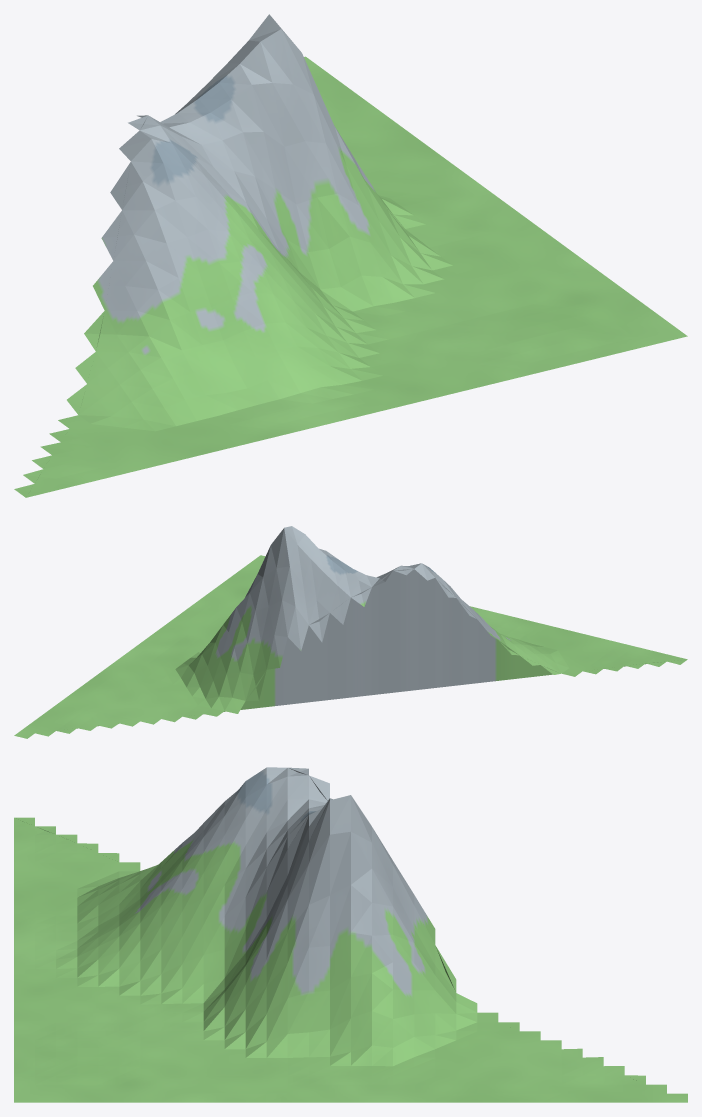
File: Grass_RockyMountains_11_NE.obj
3 views of the same model, one above another, from view 1: azimuth 30°, elevation 25°; view 2: azimuth 150°, elevation 25°; view 3: azimuth 270°, elevation 25° (orthographic). The views are drawn at different scales.
Size of the model in its own units: 10 by 3.43 by 10.
Materials: 1 (1 with a texture image).
